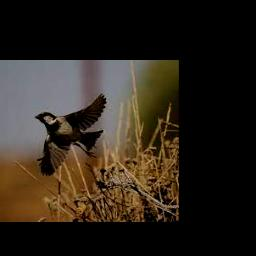Sparrow: (35, 93, 107, 176)
